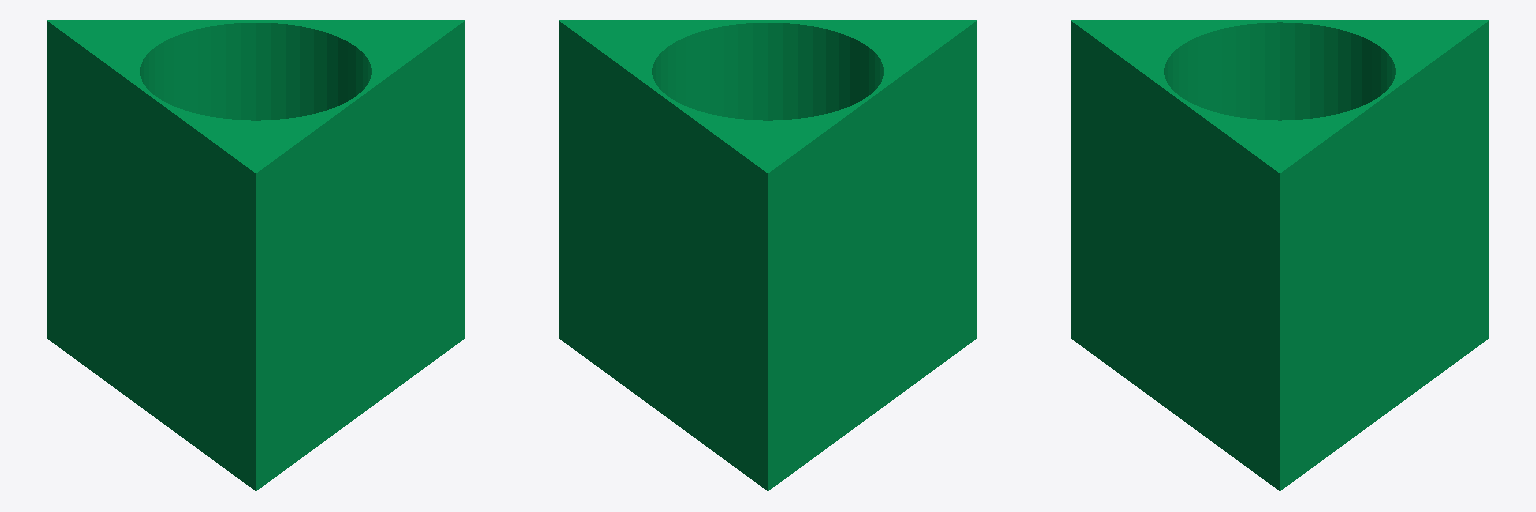
robot.urdf — triangular_block_green:
<?xml version="1.0" ?>
<robot name="triangular_block_green">
  <material name="green">
    <color rgba="0.05 0.66 0.38 1"/>
  </material>

  <link name="triangular_block_green">
    <contact>
      <lateral_friction value="1.0"/>
      <rolling_friction value="0.0"/>
      <contact_cfm value="0.0"/>
      <contact_erp value="1.0"/>
    </contact>
    <inertial>
      <origin xyz="0 0 0" rpy="0 0 0"/>
      <mass value="0.01"/>
      <inertia ixx="4.0e-7" ixy="0" ixz="0"
               iyy="4.0e-7" iyz="0" izz="3.0e-7"/>
    </inertial>
    <visual>
      <geometry><mesh filename="meshes/triangular_block.obj"/></geometry>
      <material name="green"/>
    </visual>
    <!-- Separate convex pieces keep the through-hole open in URDF importers. -->
    <collision><geometry><mesh filename="meshes/convex/convex_0.obj"/></geometry></collision>
    <collision><geometry><mesh filename="meshes/convex/convex_1.obj"/></geometry></collision>
    <collision><geometry><mesh filename="meshes/convex/convex_2.obj"/></geometry></collision>
    <collision><geometry><mesh filename="meshes/convex/convex_3.obj"/></geometry></collision>
    <collision><geometry><mesh filename="meshes/convex/convex_4.obj"/></geometry></collision>
    <collision><geometry><mesh filename="meshes/convex/convex_5.obj"/></geometry></collision>
    <collision><geometry><mesh filename="meshes/convex/convex_6.obj"/></geometry></collision>
    <collision><geometry><mesh filename="meshes/convex/convex_7.obj"/></geometry></collision>
    <collision><geometry><mesh filename="meshes/convex/convex_8.obj"/></geometry></collision>
    <collision><geometry><mesh filename="meshes/convex/convex_9.obj"/></geometry></collision>
  </link>
</robot>

--- What the picture shows (computed from the rendered views, not written in the file) ---
3 views of the same robot in one strip: view 1: azimuth 30°, elevation 25°; view 2: azimuth 150°, elevation 25°; view 3: azimuth 270°, elevation 25° (orthographic).
Model triangular_block_green with 1 links and 0 joints (none), rooted at triangular_block_green, posed every joint at zero.
Links seen in each view (by area): view 1: triangular_block_green; view 2: triangular_block_green; view 3: triangular_block_green.
Boxes of the visible links, x1,y1,x2,y2 form: triangular_block_green: (47,20,464,490); triangular_block_green: (559,20,976,490); triangular_block_green: (1071,20,1488,490).
Size in the robot's own frame: 0.015 by 0.0173 by 0.0145 metres.
1 mesh visuals loaded from 1 distinct referenced files (1 OBJ).
